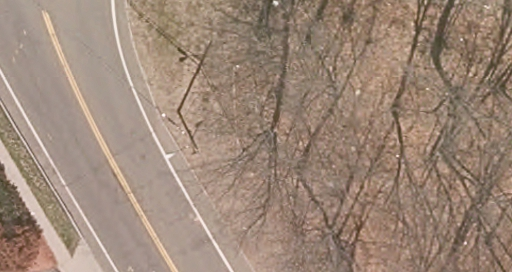DT: (161, 109, 200, 153)
